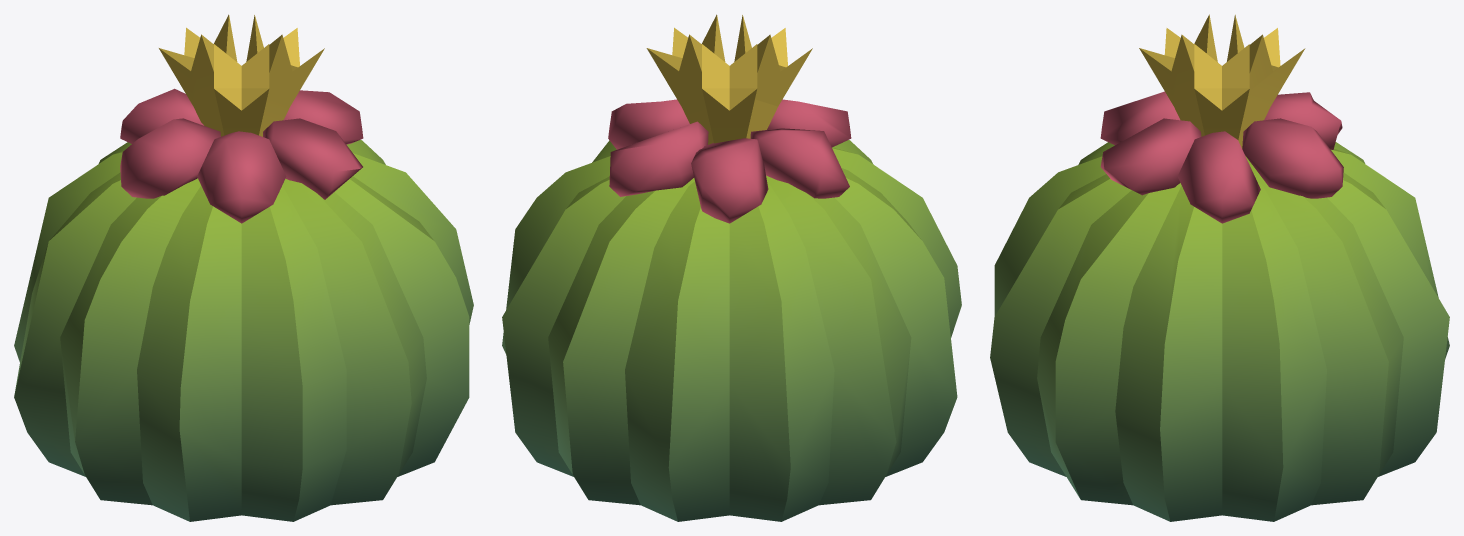
The picture shows the model from 3 angles, left to right: view 1: azimuth 30°, elevation 25°; view 2: azimuth 150°, elevation 25°; view 3: azimuth 270°, elevation 25°; orthographic projection.
Parts seen in each view (by area): view 1: LOD 1_16096745429454471203_4f8908b5be8aa20408ffdc0ad114008d; view 2: LOD 1_16096745429454471203_4f8908b5be8aa20408ffdc0ad114008d; view 3: LOD 1_16096745429454471203_4f8908b5be8aa20408ffdc0ad114008d.
Part boxes in pixels (bbox=[...]): LOD 1_16096745429454471203_4f8908b5be8aa20408ffdc0ad114008d: bbox=[14, 14, 473, 521]; LOD 1_16096745429454471203_4f8908b5be8aa20408ffdc0ad114008d: bbox=[502, 14, 961, 521]; LOD 1_16096745429454471203_4f8908b5be8aa20408ffdc0ad114008d: bbox=[990, 14, 1449, 521].
Bounding box in the file's own units: 1.04 × 1.02 × 1.04.
